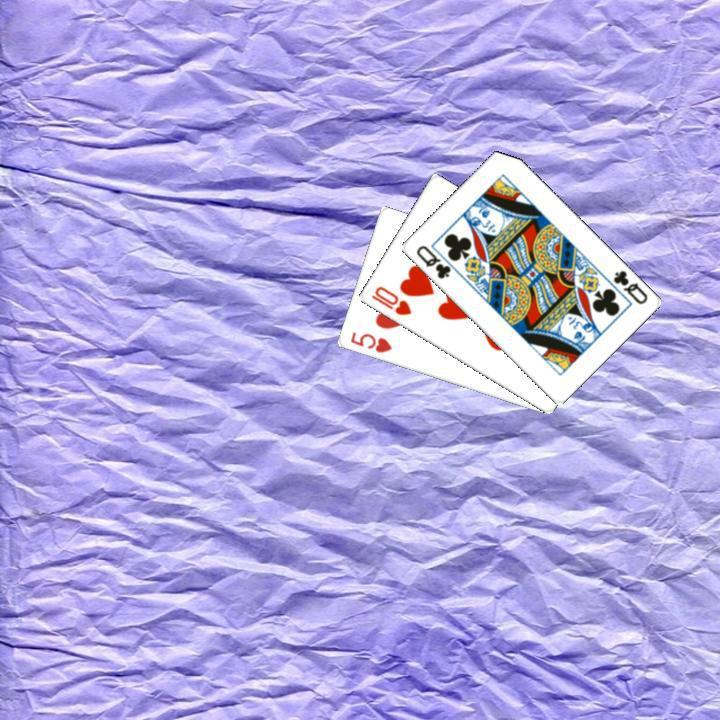10: (367, 282, 413, 318)
5: (346, 327, 393, 355)
Q: (411, 241, 453, 281), (608, 266, 649, 306)
